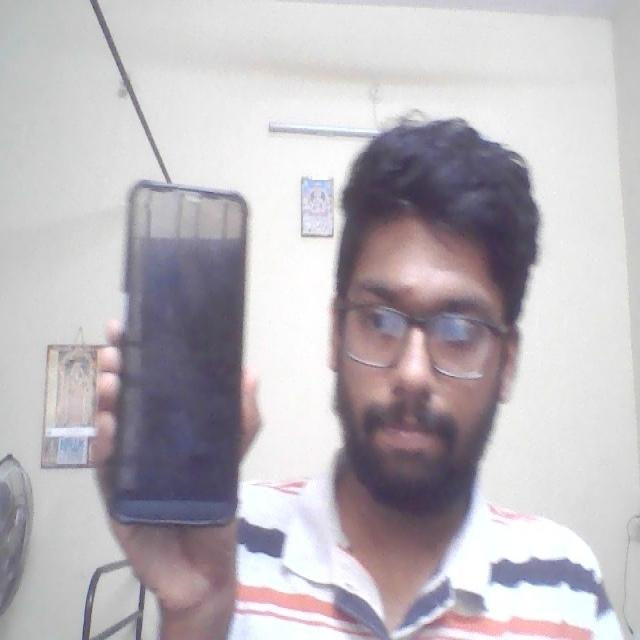Mobile: (107, 174, 251, 527)
